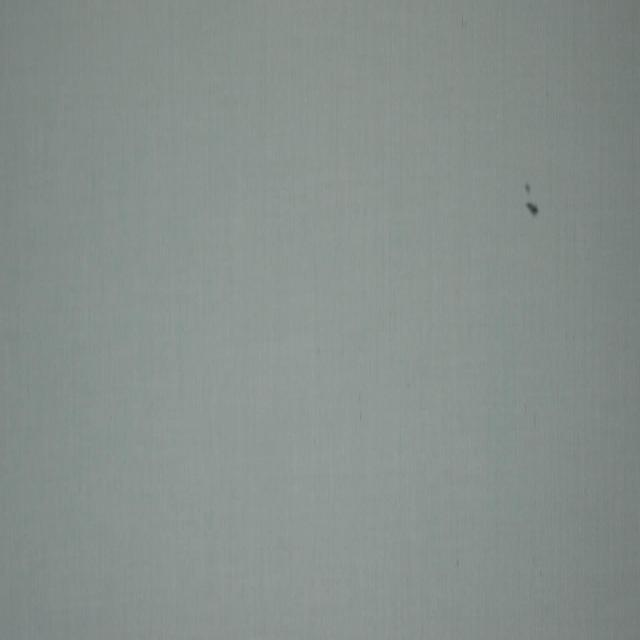dirty: (527, 202, 540, 217), (525, 184, 531, 194)
